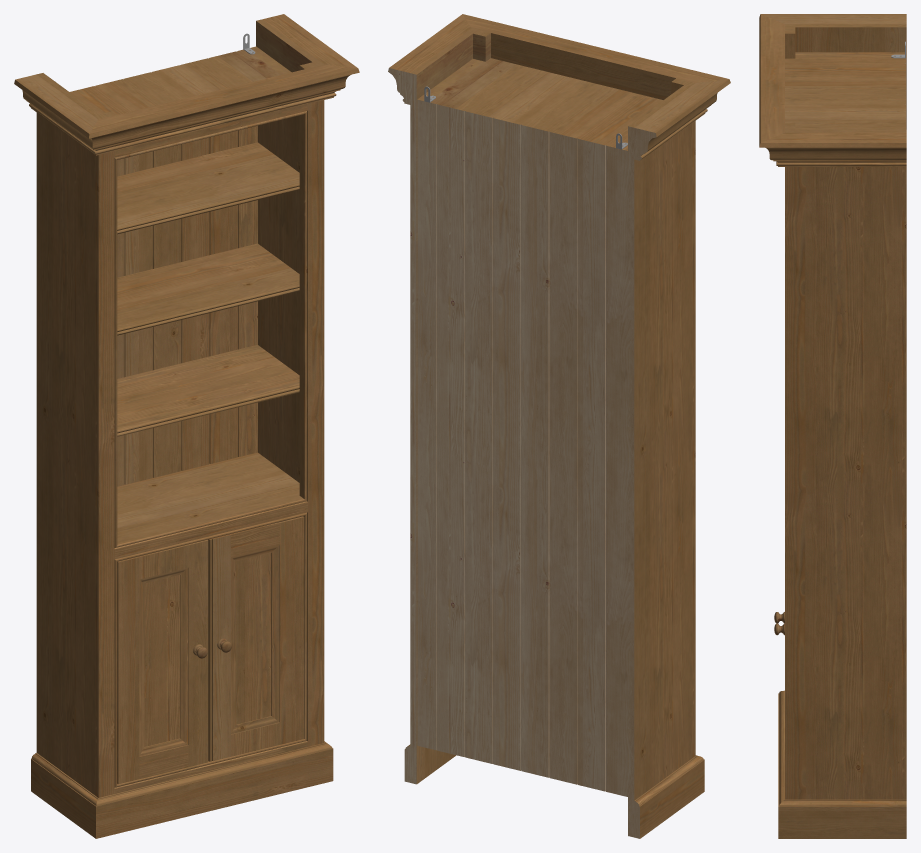
The picture shows the model from 3 angles, left to right: view 1: azimuth 30°, elevation 25°; view 2: azimuth 150°, elevation 25°; view 3: azimuth 270°, elevation 25°; orthographic projection.
Parts seen in each view (by area): view 1: obj_653001_4112e0; view 2: obj_653001_4112e0; view 3: obj_653001_4112e0.
Part boxes in pixels (x1,y1,x2,y2): obj_653001_4112e0: [14, 14, 359, 838]; obj_653001_4112e0: [388, 14, 730, 838]; obj_653001_4112e0: [759, 14, 906, 838].
Bounding box in the file's own units: 0.7925 × 2 × 0.3792.
Materials: 3 (2 with a texture image).
